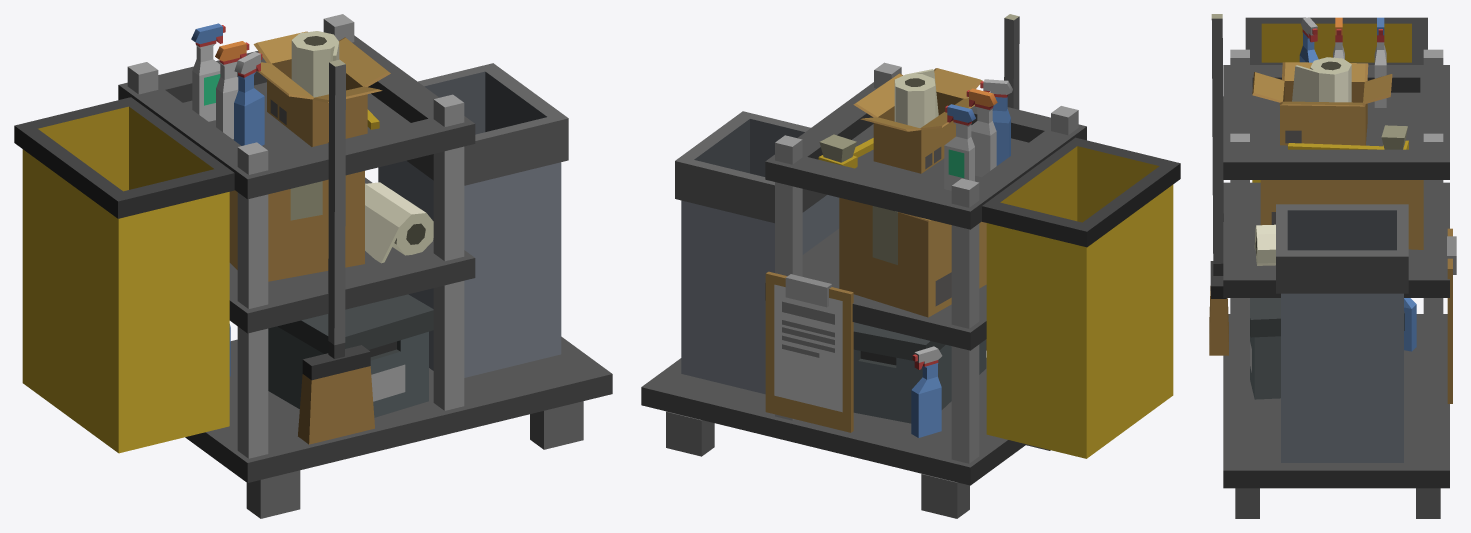
The model's file is SO_JanitorCart.fbx.
3 renders of one model, left to right at view 1: azimuth 30°, elevation 25°; view 2: azimuth 150°, elevation 25°; view 3: azimuth 270°, elevation 25°, orthographic. The views are drawn at different scales.
Visible parts, largest first — view 1: SO_JanitorCart; view 2: SO_JanitorCart; view 3: SO_JanitorCart.
Part boxes in pixels (<box>): SO_JanitorCart: <box>14,14,612,518</box>; SO_JanitorCart: <box>641,14,1180,518</box>; SO_JanitorCart: <box>1209,14,1456,518</box>.
Size of the model in its own units: 3 by 2.66 by 1.52.
